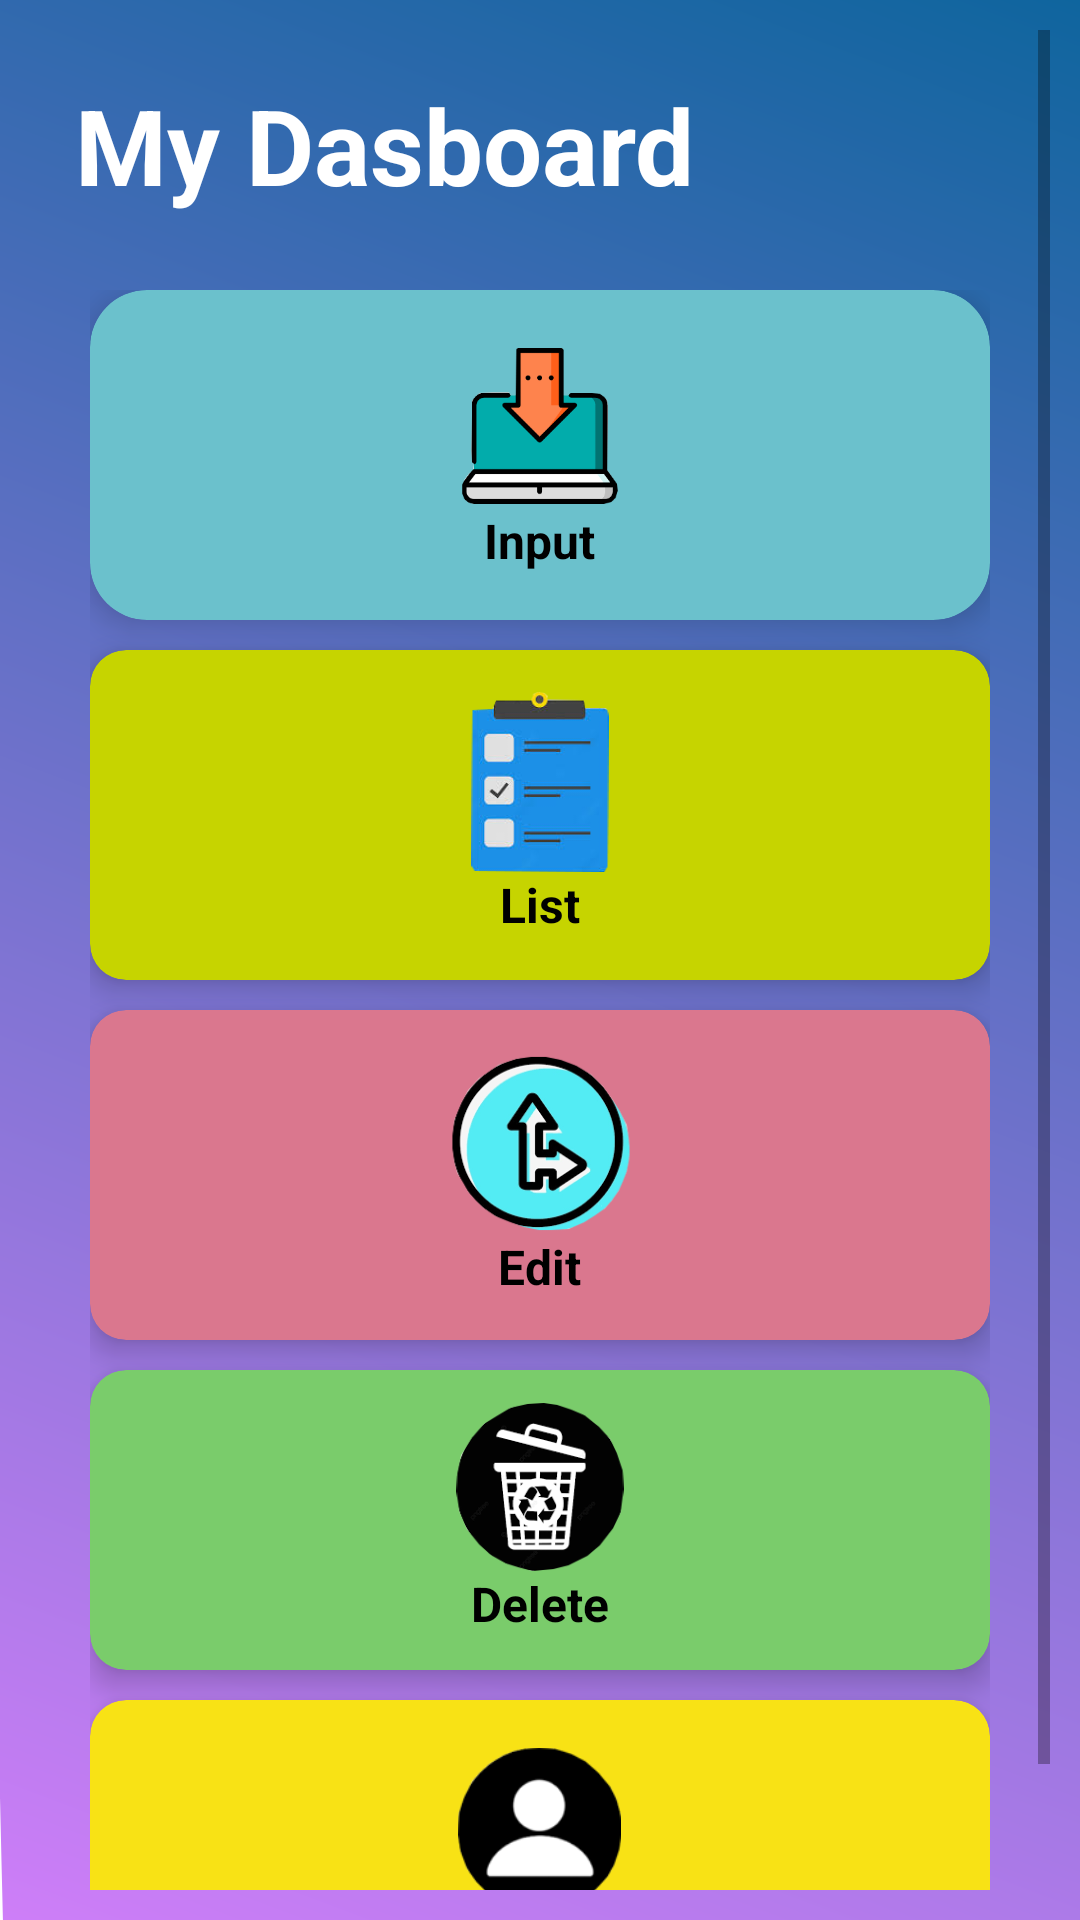

Icon click points for this 1080px x 1920px phone screenshot, format [x,y]:
change: [541,1143]
profil: [539,1832]
tsampah: [540,1487]
